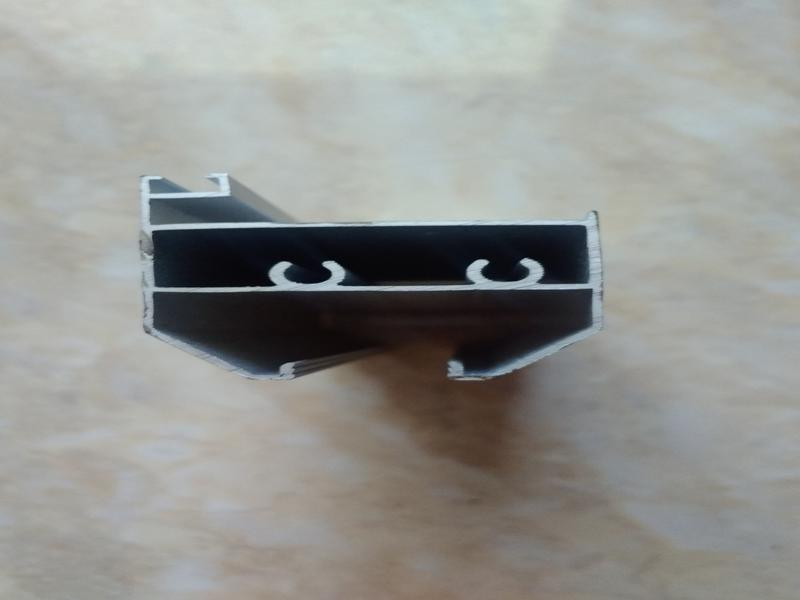Aluminium_3: (101, 143, 644, 418)
